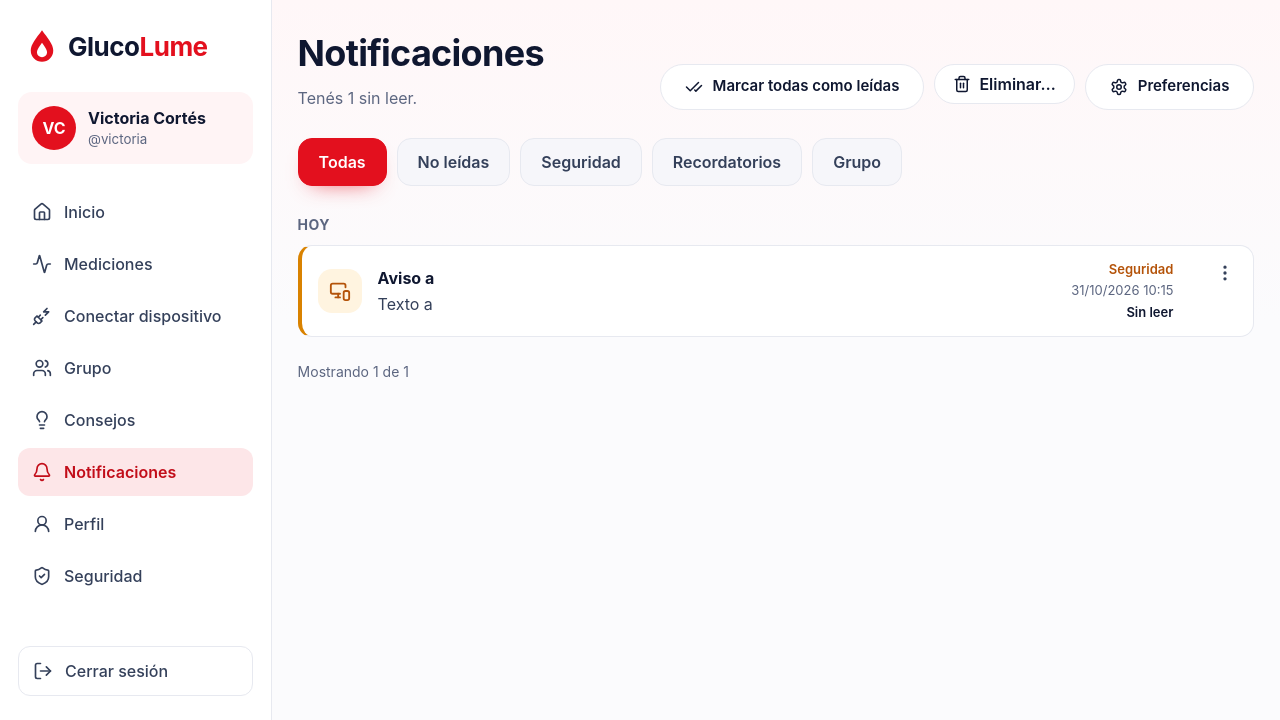
Test: Bandeja de notificaciones › marcar como leído es optimista y vuelve atrás si el backend lo rechaza
The image size is (1280, 720).
Click the button "Aviso a Texto a Seguridad 31/10/2026 10:15 Sin leer" at (340, 291), box [298, 245, 1254, 337]
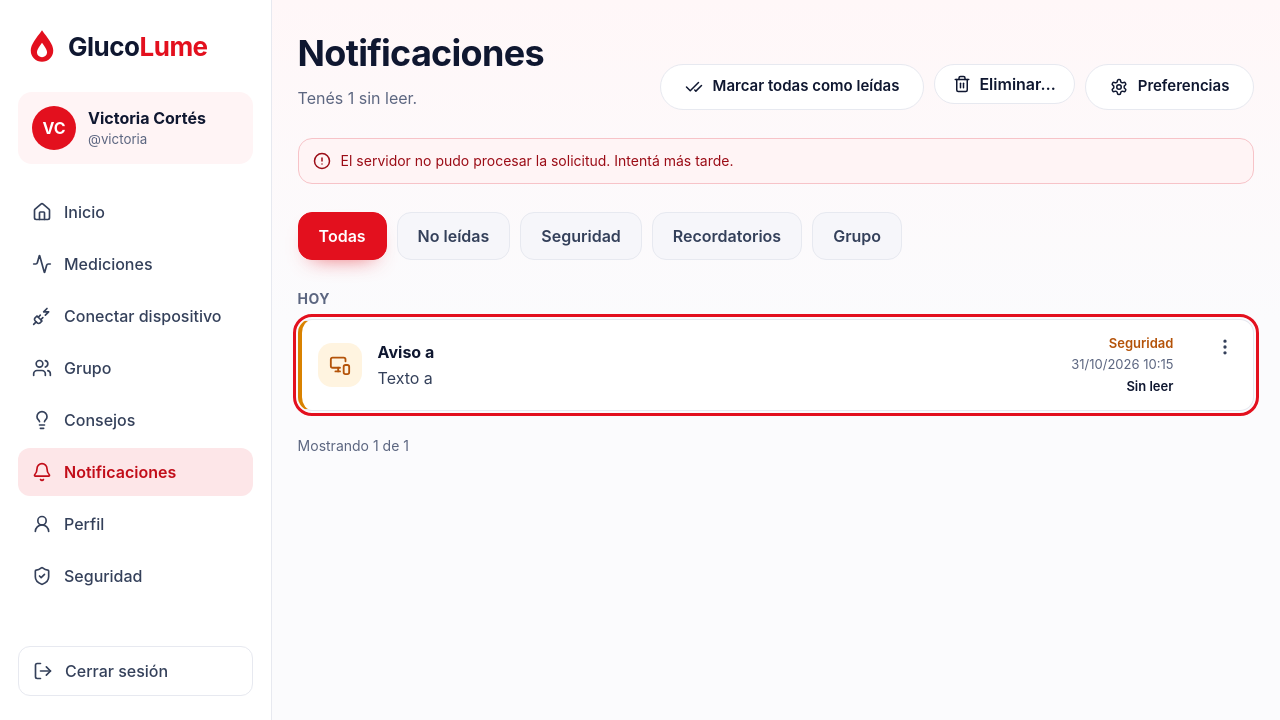
Check: the text "Tenés 1 sin leer." is shown, box [298, 88, 417, 108]
Check: the message "El servidor no pudo procesar la solicitud. Intentá más tarde." is shown, box [298, 138, 1254, 184]
